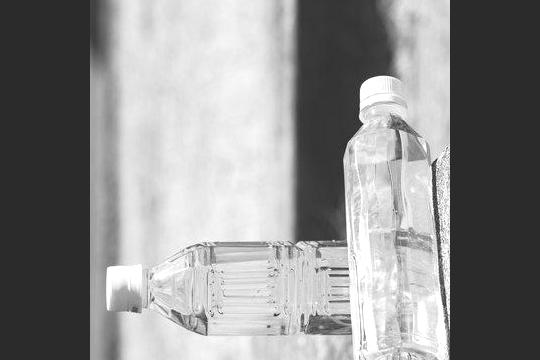bottle: (97, 231, 436, 338), (334, 64, 450, 360)
